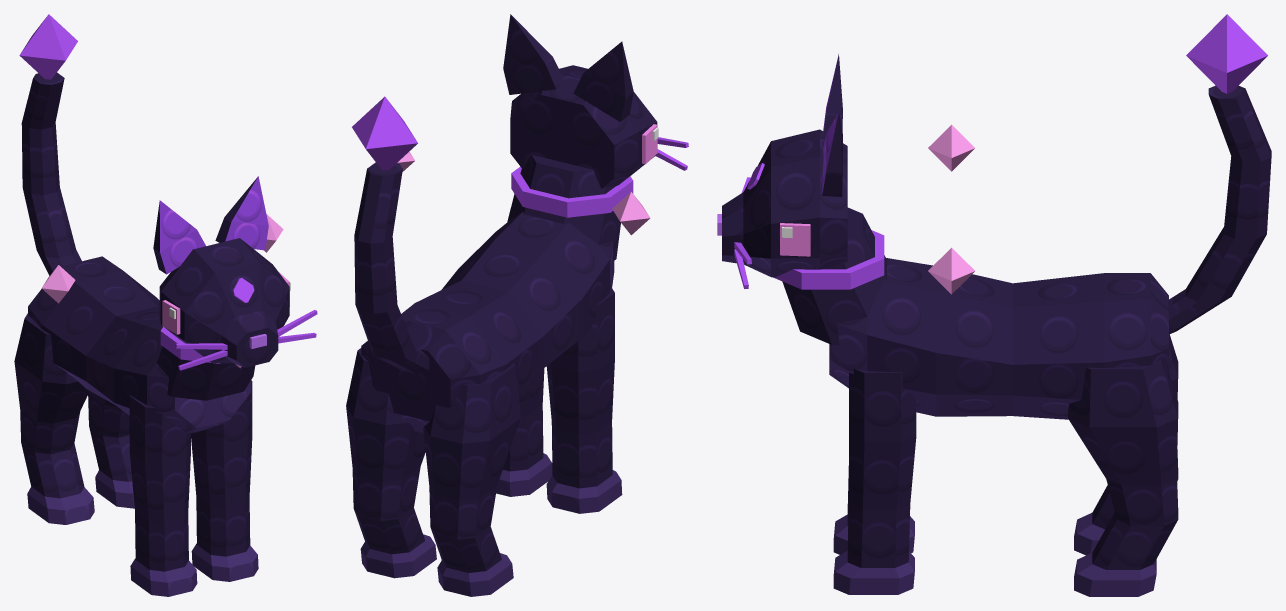
File: Voidwhisker.glb
3 views of the same model, side by side, from view 1: azimuth 30°, elevation 25°; view 2: azimuth 150°, elevation 25°; view 3: azimuth 270°, elevation 25° (orthographic). The views are drawn at different scales.
Visible parts, largest first — view 1: Body, LegBR, LegFR, LegFL, LegBL, Void, TailWisp, Gems; view 2: Body, LegBR, LegBL, LegFR, LegFL, Void, TailWisp, Gems; view 3: Body, LegBL, LegFL, TailWisp, Void, Gems, LegBR, LegFR.
Part boxes in pixels (box(x1,y1,x2,y2)): Body: box(21, 72, 290, 433); LegBR: box(14, 313, 94, 524); LegFR: box(129, 395, 197, 596); LegFL: box(191, 380, 258, 581); LegBL: box(88, 391, 134, 508); Void: box(160, 278, 317, 370); TailWisp: box(19, 14, 77, 79); Gems: box(41, 214, 283, 368); Body: box(354, 14, 658, 433); LegBR: box(423, 363, 520, 596); LegBL: box(346, 348, 436, 578); LegFR: box(546, 287, 622, 513); LegFL: box(496, 368, 552, 496); Void: box(511, 137, 688, 217); TailWisp: box(352, 96, 417, 170); Gems: box(397, 151, 650, 235); Body: box(717, 54, 1271, 419); LegBL: box(1068, 359, 1178, 596); LegFL: box(833, 368, 916, 594); TailWisp: box(1186, 14, 1267, 93); Void: box(734, 163, 884, 289); Gems: box(928, 124, 974, 294); LegBR: box(1074, 334, 1178, 555); LegFR: box(833, 466, 914, 554).
Bounding box in the file's own units: 2.76 × 4.95 × 4.52.
1 material, 1 textured.
